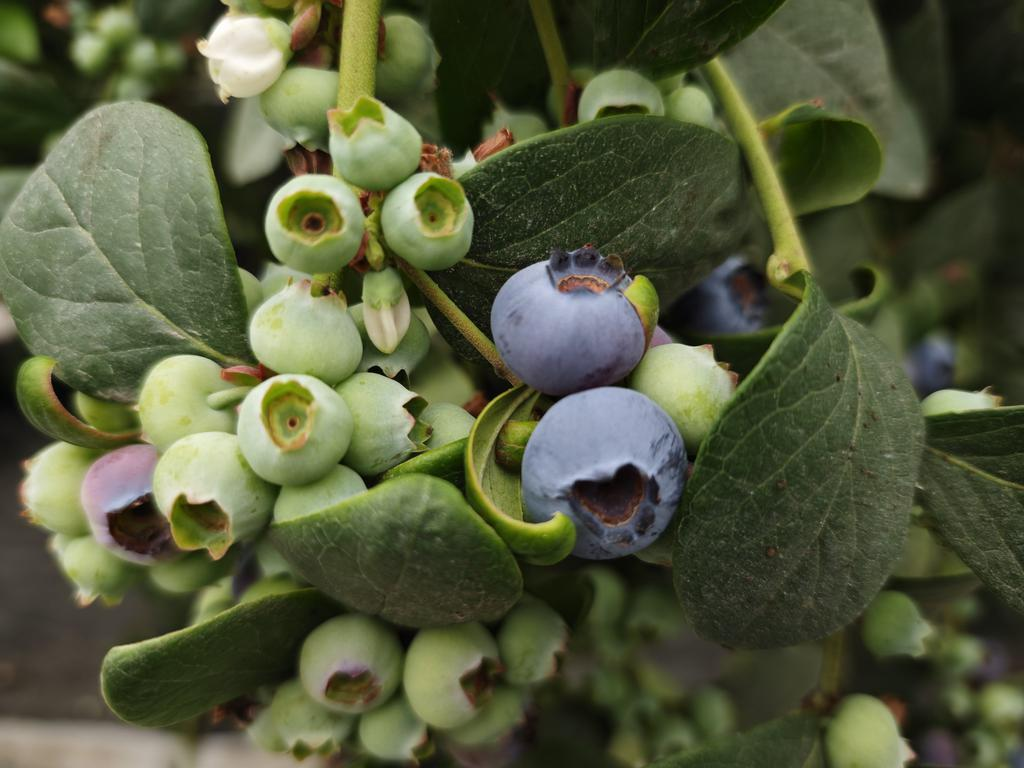RipeBlueBerry: (518, 384, 693, 565), (490, 242, 653, 396)
Semi-RipeBlueBerry: (80, 439, 175, 567)
UnripeBlueBerry: (234, 370, 355, 484)
